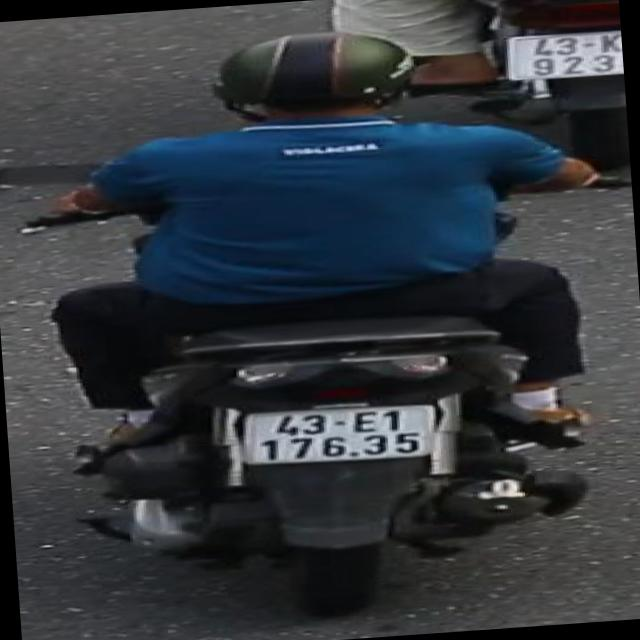LP: (222, 393, 451, 485)
helmet: (214, 18, 426, 124)
